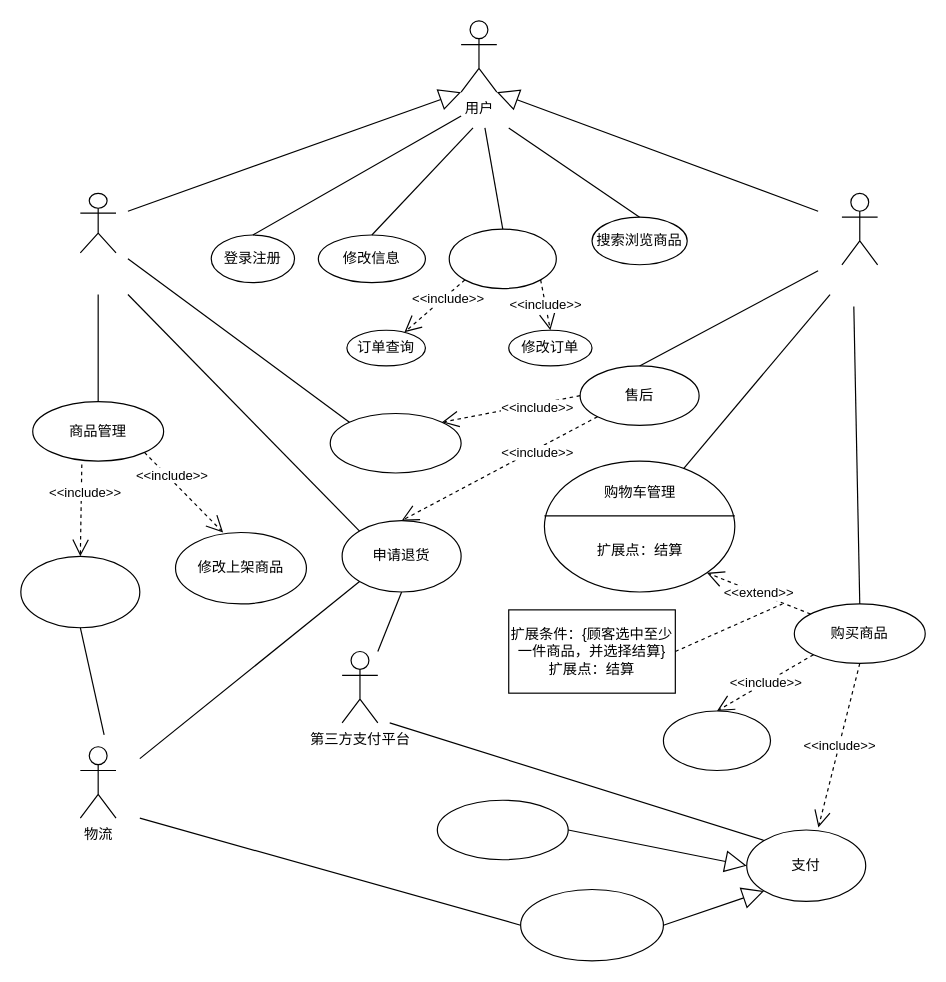
Some shapes in this 946 by 982 pixel diagram are drawn without their labels. The centre of each missing label's shape, as x and y in pixels:
"咨询" goes at point 395,442.
"商品派送" goes at point 80,591.
"商家" goes at point 97,222.
"提交订单" goes at point 716,740.
"立即支付" goes at point 502,829.
"订单管理" goes at point 502,258.
"货到付款" goes at point 591,924.
"顾客" goes at point 859,228.
